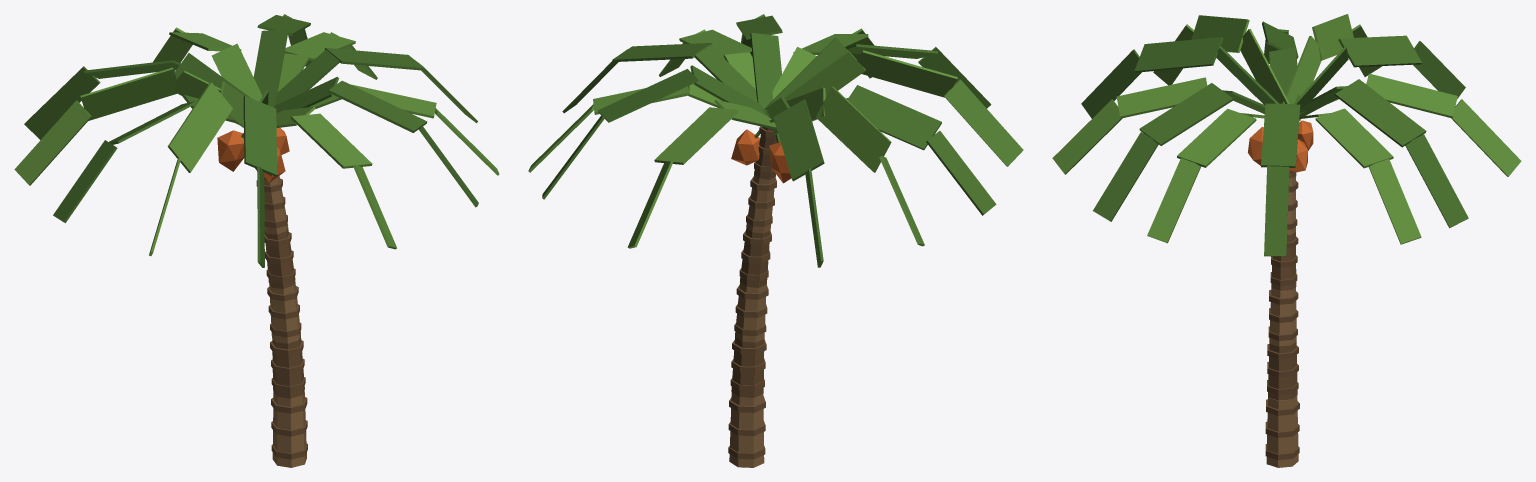
File: palm_3.glb
The picture shows the model from 3 angles, left to right: view 1: azimuth 30°, elevation 25°; view 2: azimuth 150°, elevation 25°; view 3: azimuth 270°, elevation 25°; orthographic projection. The views are drawn at different scales.
Parts seen in each view (by area): view 1: palm_3; view 2: palm_3; view 3: palm_3.
Boxes of the visible parts, x1,y1,x2,y2 form: palm_3: (14,14,499,467); palm_3: (528,14,1023,467); palm_3: (1052,14,1521,467).
Bounding box in the file's own units: 9.24 × 8.82 × 9.45.
